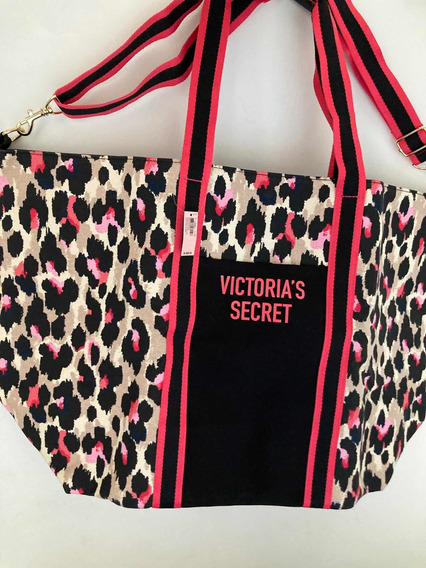cartera: (1, 2, 426, 512)
